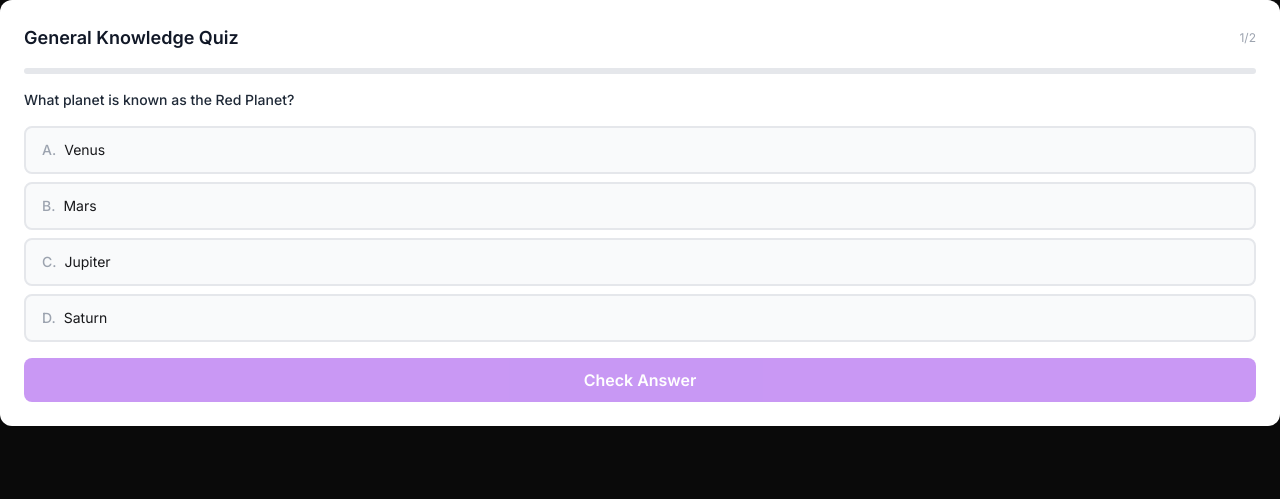
Quiz › progresses to next question
Step 1. Click the radio button "Mars" → {"x": 80, "y": 206}, box [24,182,1256,230]
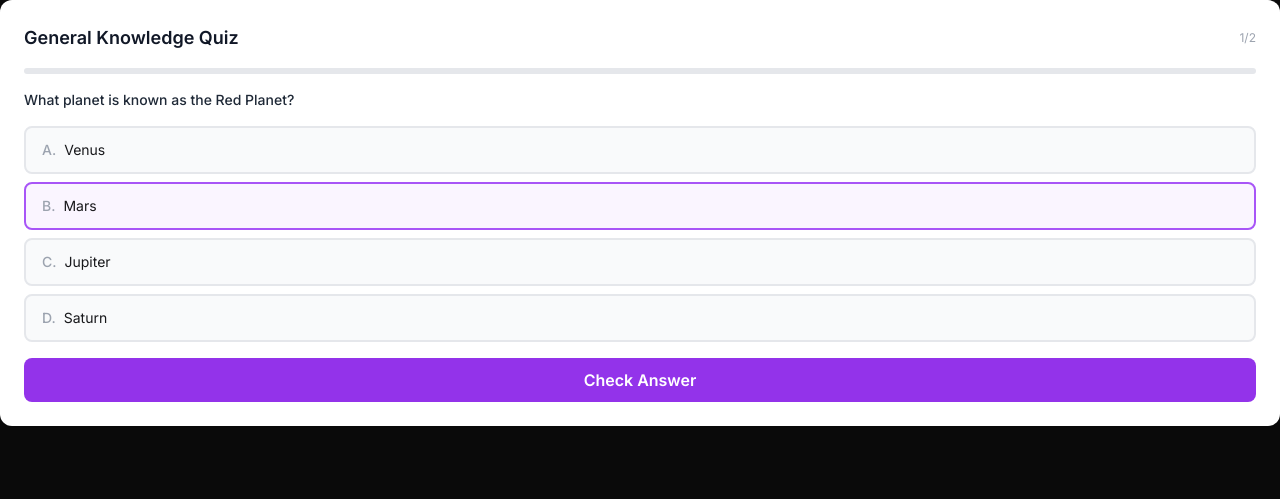
Step 2. Click the button "Check Answer" → {"x": 640, "y": 380}, box [24,358,1256,402]
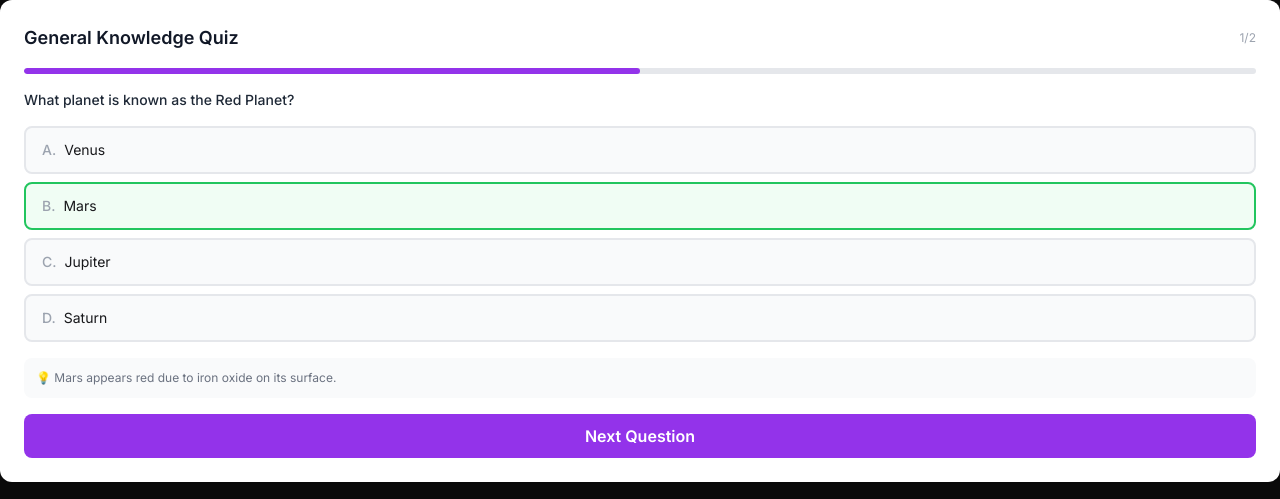
Step 3. Click the button "Next Question" → {"x": 640, "y": 436}, box [24,414,1256,458]
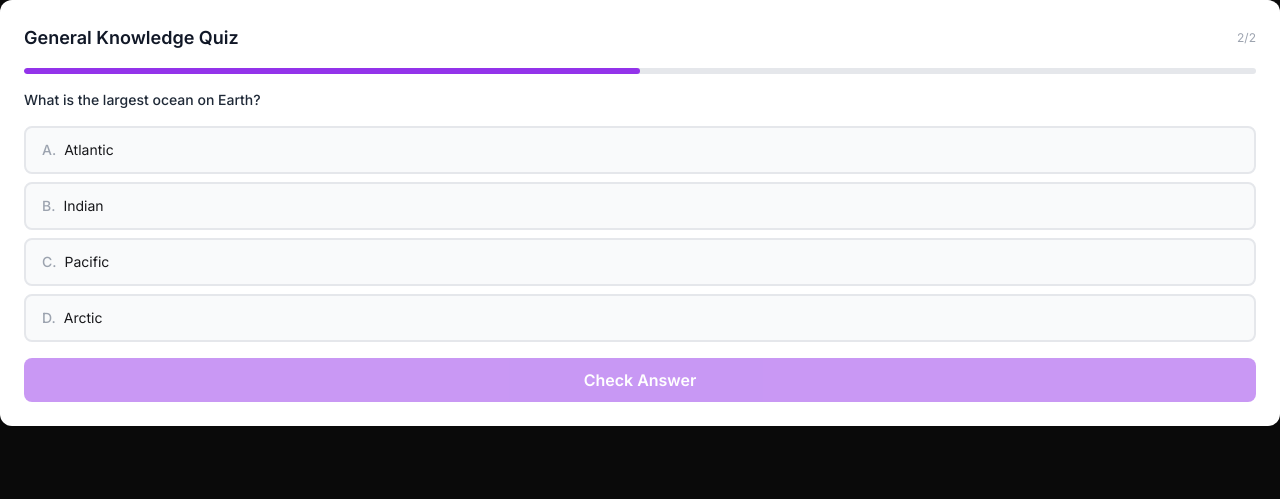
Now the text "What is the largest ocean on Earth?" is shown, box [24,91,261,108]
